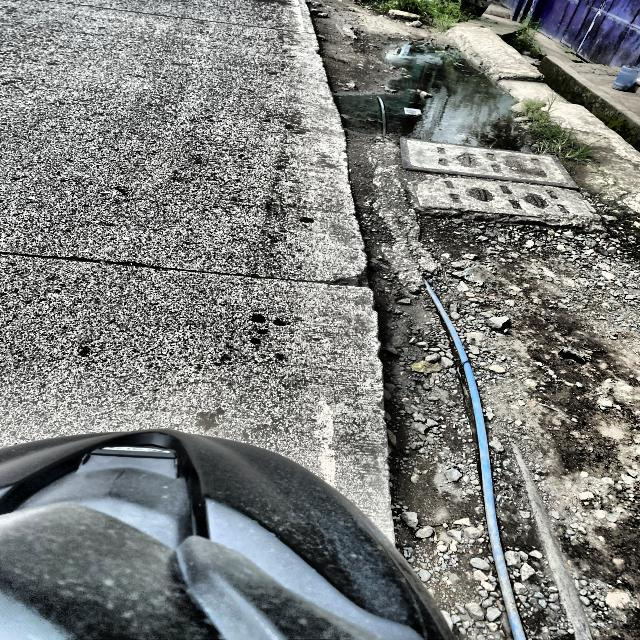no_or_faded_road_markings: (295, 371, 342, 483)
